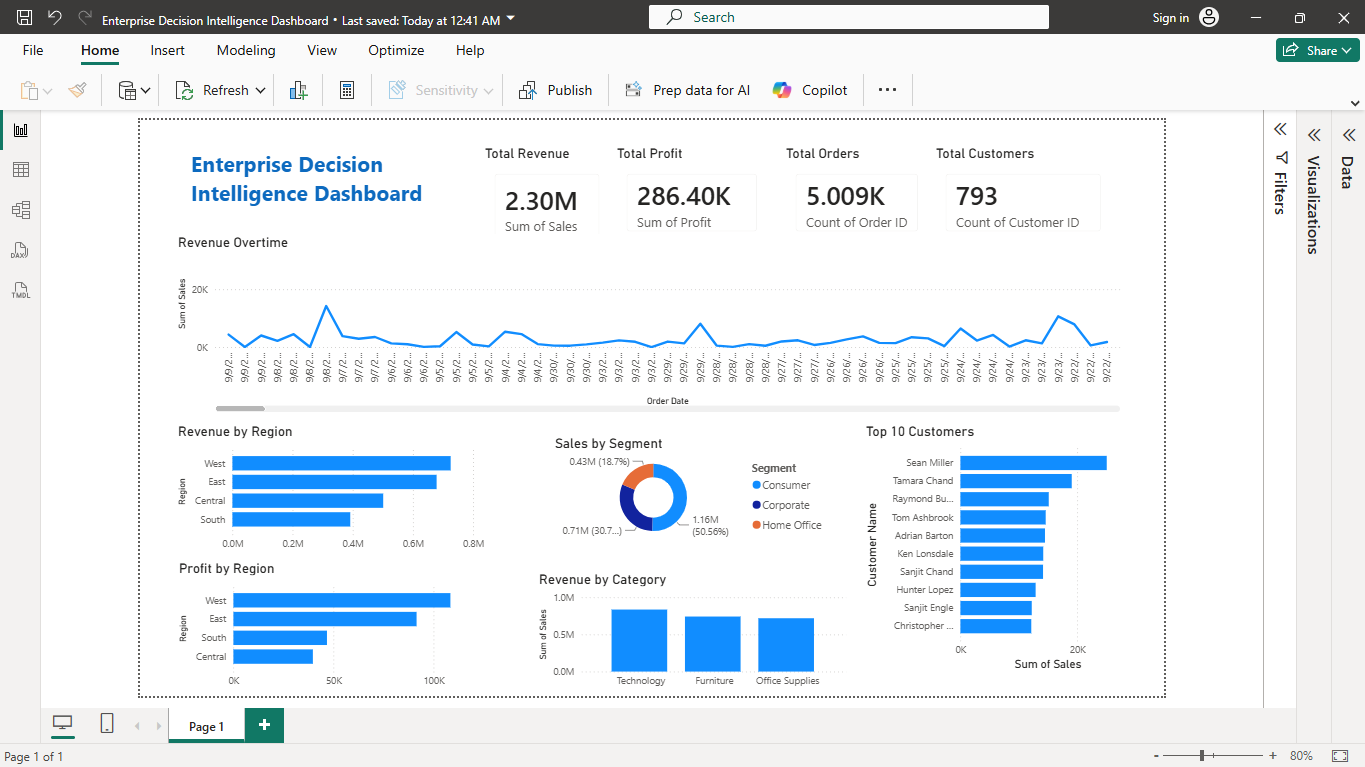

This screenshot's page, from the dashboard's own definition file:
{"tool":"powerbi","page":{"name":"Page 1","canvas":[1280,720],"ordinal":0},"visuals":[{"type":"cardVisual","title":"Total Revenue","fields":{"Data":["Sum(Sample - Superstore.Sales)"]},"box":[435.7,72.9,155.7,94.3],"z":0},{"type":"cardVisual","title":"Total Profit","fields":{"Data":["Sum(Sample - Superstore.Profit)"]},"box":[608.6,61.4,180,94.3],"z":1000},{"type":"cardVisual","title":"Total Orders","fields":{"Data":["Count(Sample - Superstore.Order ID)"]},"box":[814.3,61.4,175.7,94.3],"z":2000},{"type":"cardVisual","title":"Total Customers","fields":{"Data":["Count(Sample - Superstore.Customer ID)"]},"box":[1011.4,51.4,207.1,94.3],"z":2001},{"type":"lineChart","title":"Revenue Overtime","fields":{"Y":["Sum(Sample - Superstore.Sales)"],"Category":["Sample - Superstore.Order Date"]},"box":[42.9,145.7,1175.7,211.4],"z":2002},{"type":"clusteredBarChart","title":"Revenue by Region","fields":{"Category":["Sample - Superstore.Region"],"Y":["Sum(Sample - Superstore.Sales)"]},"box":[42.9,378.6,392.9,168.6],"z":2003},{"type":"clusteredColumnChart","title":"Revenue by Category","fields":{"Category":["Sample - Superstore.Category"],"Y":["Sum(Sample - Superstore.Sales)"]},"box":[494.3,564.3,394.3,155.7],"z":2004},{"type":"clusteredBarChart","title":"Profit by Region","fields":{"Category":["Sample - Superstore.Region"],"Y":["Sum(Sample - Superstore.Profit)"]},"box":[43.3,550.4,392.2,168.9],"z":2005},{"type":"donutChart","title":"Sales by Segment","fields":{"Category":["Sample - Superstore.Segment"],"Y":["Sum(Sample - Superstore.Sales)"]},"box":[514.3,394.3,352.9,137.1],"z":2006},{"type":"clusteredBarChart","title":"Top 10 Customers","fields":{"Y":["Sum(Sample - Superstore.Sales)"],"Category":["Sample - Superstore.Customer Name"]},"box":[902.9,378.6,357.1,314.3],"z":2007},{"type":"textbox","box":[58.6,31.4,332.9,82.9],"z":2008}]}

Visuals, with their boxes on the page's 1280x720 design canvas (x1, y1, x2, y2). These are canvas units, not pixel positions in the 1365x767 screenshot, which may show the page scaled, cropped or inside an application window:
"Total Revenue" cardVisual: region(436, 73, 591, 167)
"Total Profit" cardVisual: region(609, 61, 789, 156)
"Total Orders" cardVisual: region(814, 61, 990, 156)
"Total Customers" cardVisual: region(1011, 51, 1218, 146)
"Revenue Overtime" lineChart: region(43, 146, 1219, 357)
"Revenue by Region" clusteredBarChart: region(43, 379, 436, 547)
"Revenue by Category" clusteredColumnChart: region(494, 564, 889, 720)
"Profit by Region" clusteredBarChart: region(43, 550, 436, 719)
"Sales by Segment" donutChart: region(514, 394, 867, 531)
"Top 10 Customers" clusteredBarChart: region(903, 379, 1260, 693)
textbox: region(59, 31, 392, 114)
